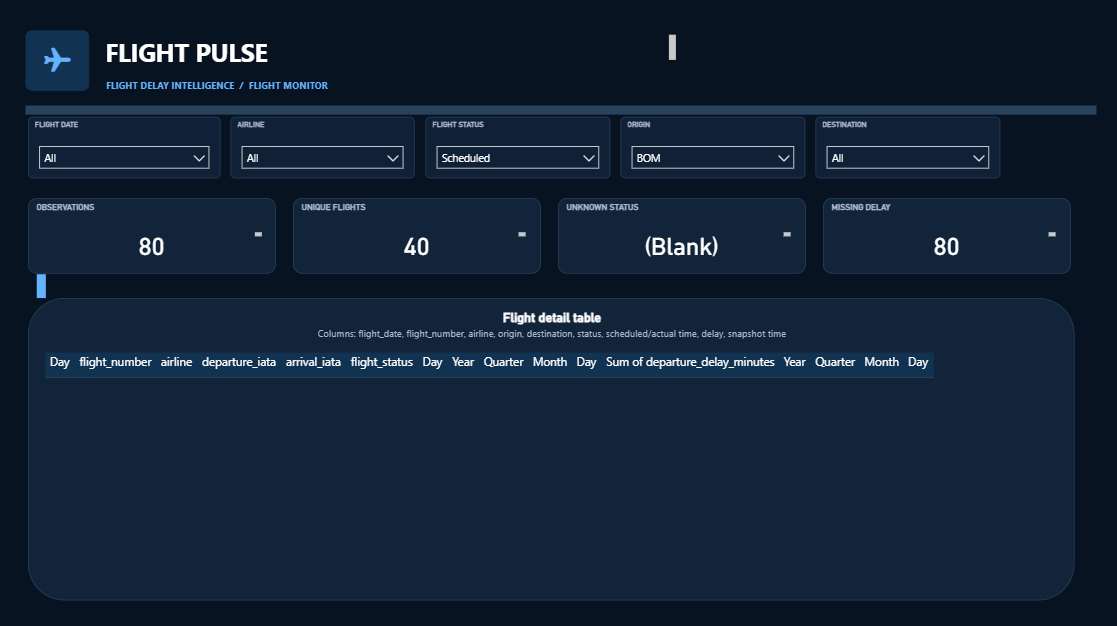

The page's visual inventory and layout, read from the dashboard file:
{"tool":"powerbi","page":{"name":"Flight Monitor","canvas":[1280,720],"ordinal":4},"visuals":[{"type":"textbox","box":[31.4,37.1,72.9,68.6],"z":0},{"type":"textbox","box":[117.1,37.1,662.9,42.9],"z":1000},{"type":"textbox","box":[118.6,84.3,727.1,38.6],"z":2000},{"type":"textbox","box":[31.5,123.3,1224,1.4],"z":4000},{"type":"slicer","title":"FLIGHT DATE","fields":{"Values":["public flight_observations.flight_date"]},"box":[33.8,136.2,220,70],"z":5000},{"type":"slicer","title":"AIRLINE","fields":{"Values":["public flight_observations.airline"]},"box":[266.2,136.2,210,70],"z":6000},{"type":"slicer","title":"FLIGHT STATUS","fields":{"Values":["public flight_observations.FlightStatusGroup"]},"box":[488.8,136.2,211.2,70],"z":7000},{"type":"slicer","title":"ORIGIN","fields":{"Values":["public flight_observations.departure_iata"]},"box":[711.2,136.2,211.2,70],"z":8000},{"type":"slicer","title":"DESTINATION","fields":{"Values":["public flight_observations.arrival_iata"]},"box":[933.8,136.2,211.2,70],"z":9000},{"type":"card","title":"OBSERVATIONS","fields":{"Values":["public flight_observations.Flight Observation"]},"box":[33.8,228.8,283.2,86.4],"z":10000},{"type":"textbox","box":[46.8,262.5,259.2,14.4],"z":11000},{"type":"card","title":"UNIQUE FLIGHTS","fields":{"Values":["public flight_observations.Unique Flight Instances"]},"box":[337.5,228.8,283.2,86.4],"z":12000},{"type":"textbox","box":[349.2,262.5,259.2,14.4],"z":13000},{"type":"card","title":"UNKNOWN STATUS","fields":{"Values":["public flight_observations.Unknown Status Observations"]},"box":[640,228.8,283.2,86.4],"z":14000},{"type":"textbox","box":[651.6,262.5,259.2,14.4],"z":15000},{"type":"card","title":"MISSING DELAY","fields":{"Values":["public flight_observations.Missing Delay Observations"]},"box":[942.5,228.8,283.2,86.4],"z":16000},{"type":"textbox","box":[954,262.5,259.2,14.4],"z":17000},{"type":"tableEx","title":"Flight detail table","fields":{"Values":["public flight_observations.flight_date.Variation.Date Hierarchy.Day","public flight_observations.flight_number","public flight_observations.airline","public flight_observations.departure_iata","public flight_observations.arrival_iata","public flight_observations.flight_status","public flight_observations.scheduled_departure_utc.Variation.Date Hierarchy.Day","public flight_observations.actual_departure_utc.Variation.Date Hierarchy.Year","public flight_observations.actual_departure_utc.Variation.Date Hierarchy.Quarter","public flight_observations.actual_departure_utc.Variation.Date Hierarchy.Month","public flight_observations.actual_departure_utc.Variation.Date Hierarchy.Day","Sum(public flight_observations.departure_delay_minutes)"]},"box":[33.8,342.5,1196.2,345.6],"z":18000},{"type":"textbox","box":[44.9,315.3,4.3,26.9],"z":19000}]}

Visuals, with their boxes in screenshot pixels (x1, y1, x2, y2), scaled from the page's 1280x720 canvas onto the 1117x626 screenshot:
textbox: (27,32,91,92)
textbox: (102,32,681,70)
textbox: (103,73,738,107)
textbox: (27,107,1096,108)
"FLIGHT DATE" slicer: (29,118,221,179)
"AIRLINE" slicer: (232,118,416,179)
"FLIGHT STATUS" slicer: (427,118,611,179)
"ORIGIN" slicer: (621,118,805,179)
"DESTINATION" slicer: (815,118,999,179)
"OBSERVATIONS" card: (29,199,277,274)
textbox: (41,228,267,241)
"UNIQUE FLIGHTS" card: (295,199,542,274)
textbox: (305,228,531,241)
"UNKNOWN STATUS" card: (558,199,806,274)
textbox: (569,228,795,241)
"MISSING DELAY" card: (822,199,1070,274)
textbox: (833,228,1059,241)
"Flight detail table" tableEx: (29,298,1073,598)
textbox: (39,274,43,298)
